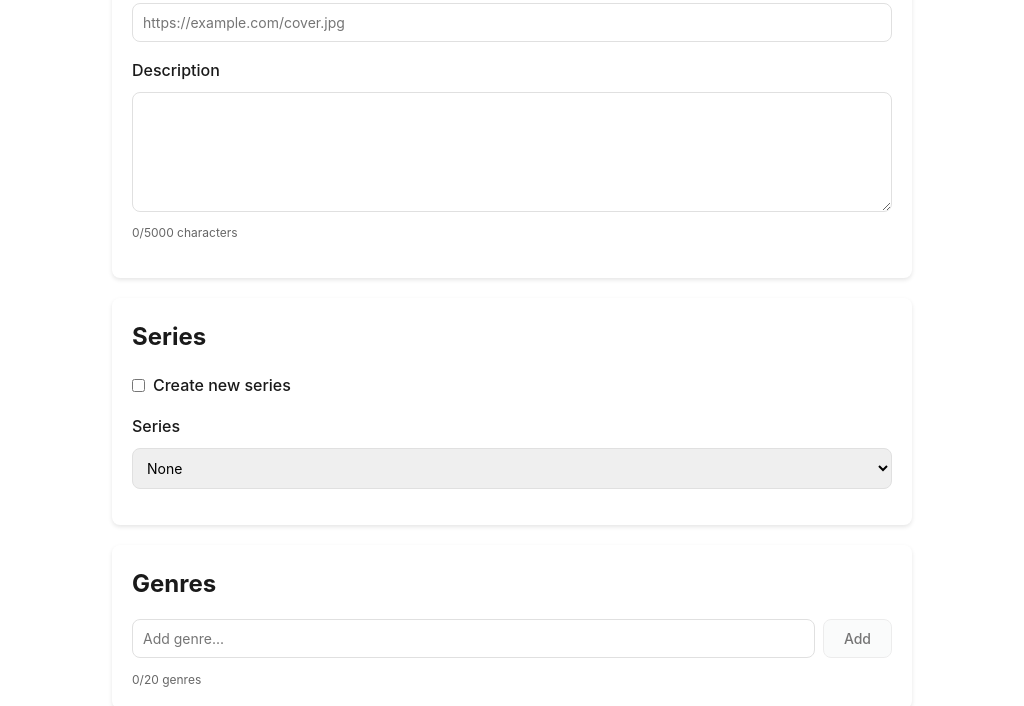
Test: AddBook › Series functionality › should show new series form when checkbox is checked
(page scrolled)
Check: the field labelled "Series Name" is not shown
// Check the create new series checkbox
Click the checkbox labelled "Create new series": (138, 386) [132,379,145,392]
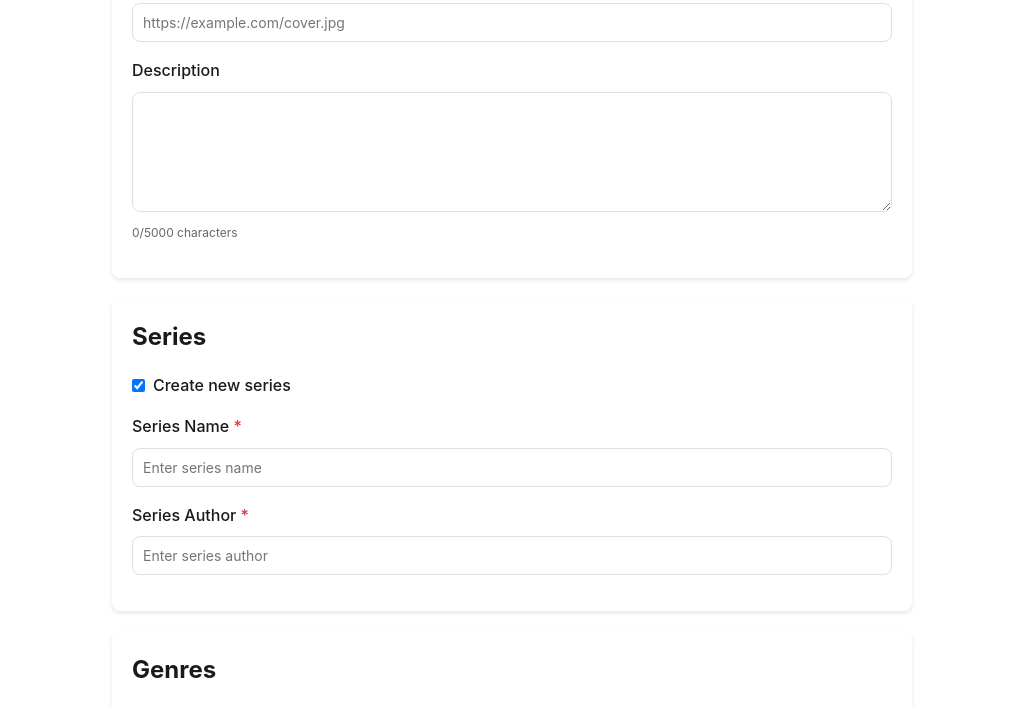
Check: the field labelled "Series Name *" is shown, box [132,448,892,487]
Check: the field labelled "Series Author *" is shown, box [132,536,892,576]
